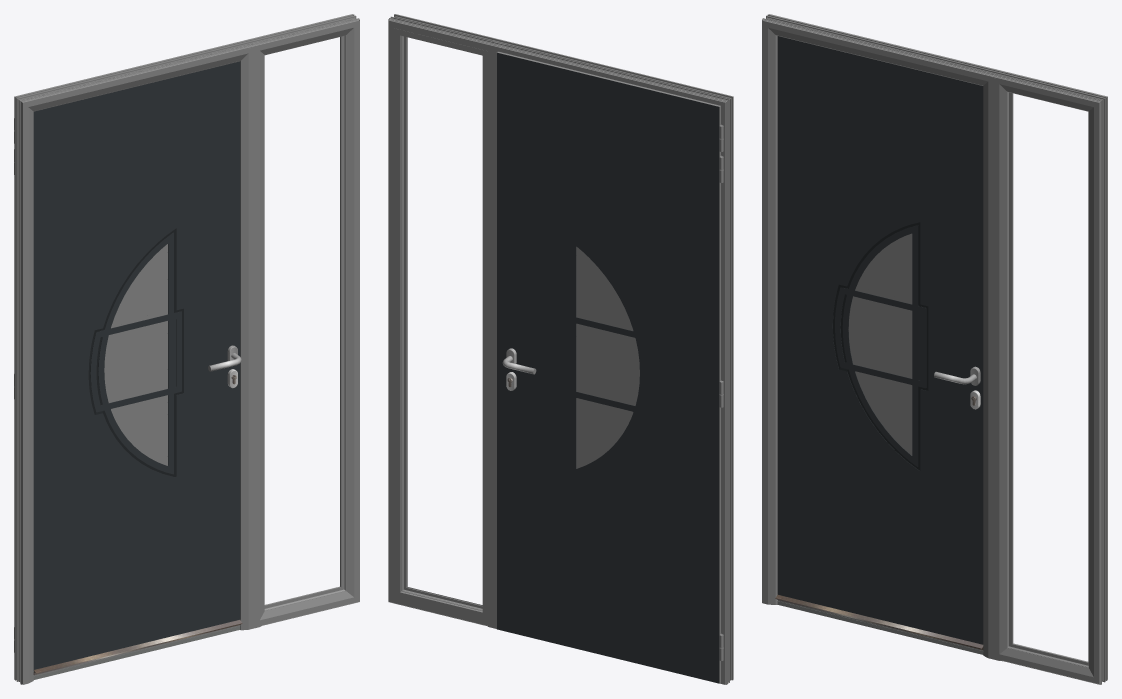
The picture shows the model from 3 angles, left to right: view 1: azimuth 30°, elevation 25°; view 2: azimuth 150°, elevation 25°; view 3: azimuth 330°, elevation 25°; orthographic projection.
Parts seen in each view (by area): view 1: bloco_151, Rectangle002, Line004, Vidro Porta, Object, Object001, Line005, Rectangle005, Rectangle003; view 2: bloco_151, Rectangle002, Vidro Porta, Rectangle003, Line004, Object001, Rectangle004, Object; view 3: bloco_151, Rectangle002, Line004, Vidro Porta, Object001, Object, Line005, Rectangle003, Rectangle005.
Part boxes in pixels (<box>): bloco_151: <box>33,61,240,671</box>; Rectangle002: <box>14,14,359,684</box>; Line004: <box>240,46,264,630</box>; Vidro Porta: <box>104,244,167,465</box>; Object: <box>33,35,346,680</box>; Object001: <box>264,36,344,608</box>; Line005: <box>33,620,242,674</box>; Rectangle005: <box>33,625,240,679</box>; Rectangle003: <box>264,37,340,605</box>; bloco_151: <box>497,52,719,683</box>; Rectangle002: <box>388,14,733,684</box>; Vidro Porta: <box>576,246,639,468</box>; Rectangle003: <box>394,28,487,619</box>; Line004: <box>488,41,504,628</box>; Object001: <box>401,36,482,610</box>; Rectangle004: <box>496,51,720,683</box>; Object: <box>404,36,482,608</box>; bloco_151: <box>777,36,983,644</box>; Rectangle002: <box>762,14,1107,684</box>; Line004: <box>983,77,1007,661</box>; Vidro Porta: <box>848,233,912,455</box>; Object001: <box>1007,92,1088,665</box>; Object: <box>776,35,1088,667</box>; Line005: <box>775,595,983,649</box>; Rectangle003: <box>1012,93,1087,662</box>; Rectangle005: <box>777,600,983,654</box>.
Bounding box in the file's own units: 1307 × 2150 × 192.
8 materials, 5 textured.
